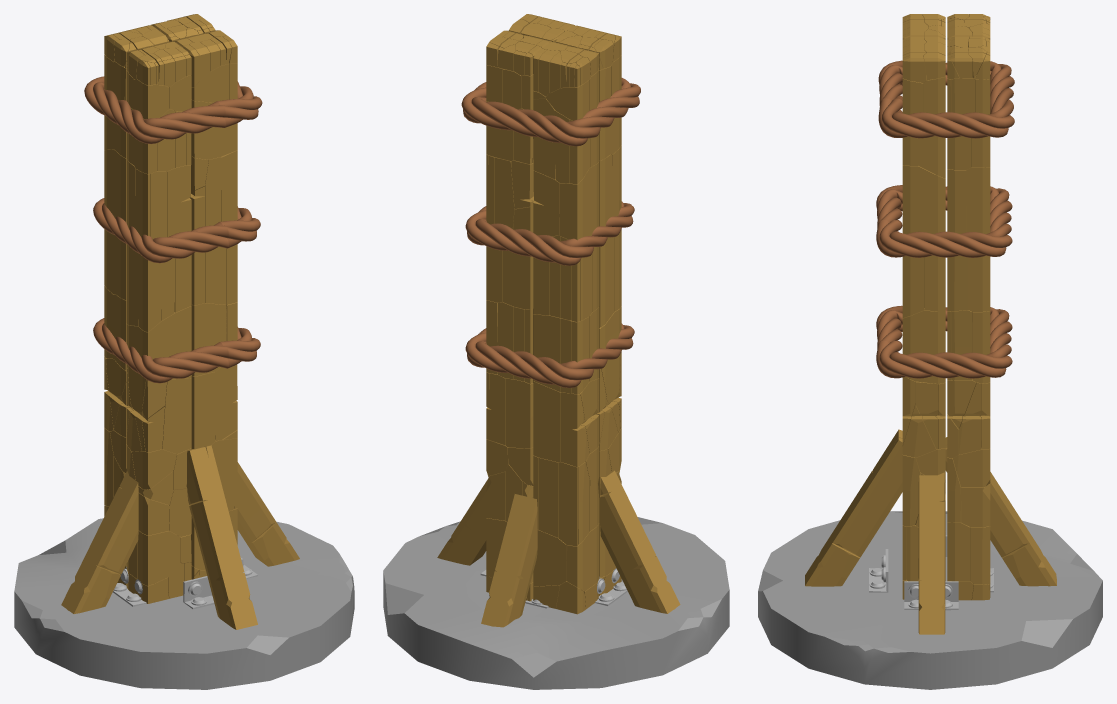
3 renders of one model, left to right at view 1: azimuth 30°, elevation 25°; view 2: azimuth 150°, elevation 25°; view 3: azimuth 270°, elevation 25°, orthographic.
Visible parts, largest first — view 1: Circle.010, Cube.019, Cube.021, seil.001, seil.003, seil.002, Cube.020, Cube.146_cell.116, Cube.146_cell.154, Cube.146_cell.158, Cube.149_cell.162, Cube.146_cell.149 (+38 smaller); view 2: Circle.010, Cube.021, seil.001, Cube.018, seil.003, seil.002, Cube.147_cell.164, Cube.020, Cube.147_cell.161, Cube.148_cell.132, Cube.147_cell.123, Cube.148_cell.156 (+44 smaller); view 3: Circle.010, Cube.019, seil.001, seil.002, seil.003, Cube.020, Cube.018, Cube.149_cell.110, Cube.149_cell.145, Cube.148_cell.159, Cube.148_cell.191, Cube.149_cell.121 (+30 smaller).
Part boxes in pixels (x1,y1,x2,y2): Circle.010: (14,518,354,689); Cube.019: (187,445,257,629); Cube.021: (61,471,138,613); seil.001: (84,76,262,143); seil.003: (93,198,260,263); seil.002: (93,318,260,383); Cube.020: (237,462,299,566); Cube.146_cell.116: (126,306,191,378); Cube.146_cell.154: (162,378,191,453); Cube.146_cell.158: (138,531,180,585); Cube.149_cell.162: (191,371,215,448); Cube.146_cell.149: (138,253,161,332); Circle.010: (383,517,729,689); Cube.021: (600,470,680,613); seil.001: (461,78,640,146); Cube.018: (481,488,537,627); seil.003: (465,201,634,265); seil.002: (465,323,634,387); Cube.147_cell.164: (559,162,599,240); Cube.020: (437,478,488,565); Cube.147_cell.161: (533,381,560,462); Cube.148_cell.132: (505,378,533,448); Cube.147_cell.123: (561,392,589,467); Cube.148_cell.156: (503,250,533,309); Circle.010: (758,511,1102,689); Cube.019: (805,429,902,586); seil.001: (878,60,1014,138); seil.002: (876,305,1012,378); seil.003: (876,185,1012,257); Cube.020: (918,472,945,634); Cube.018: (945,437,1056,586); Cube.149_cell.110: (902,165,945,233); Cube.149_cell.145: (902,308,945,383); Cube.148_cell.159: (966,167,990,233); Cube.148_cell.191: (947,522,970,581); Cube.149_cell.121: (902,256,923,317).
Bounding box in the file's own units: 212 × 391 × 212.
